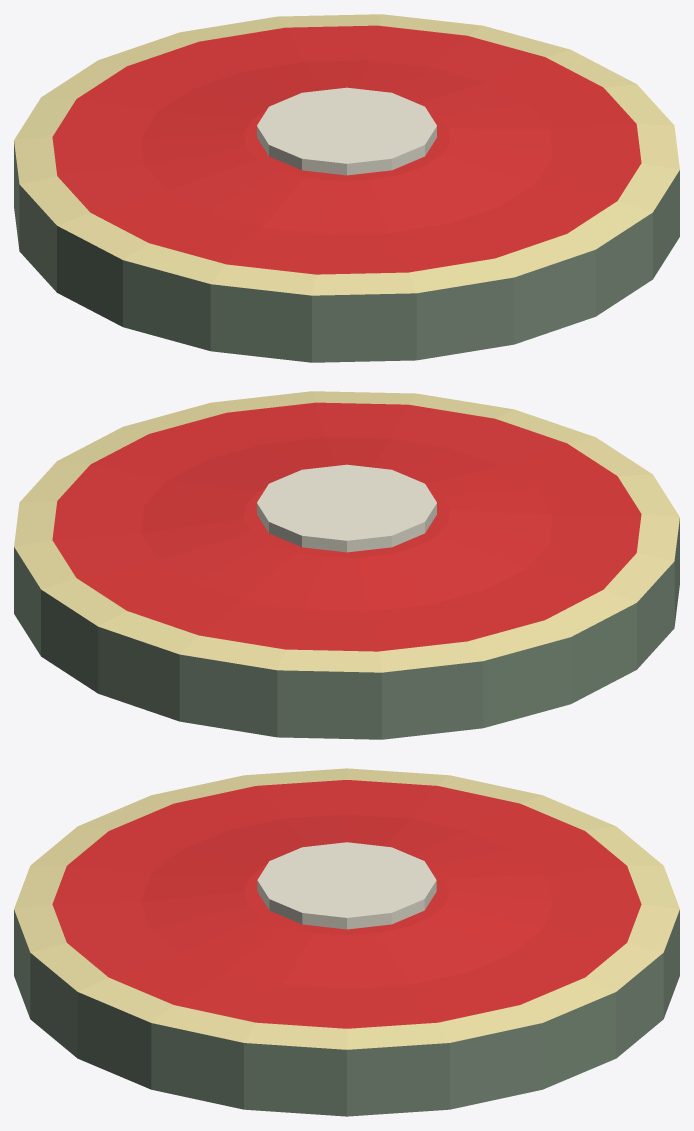
The model's file is cap_shoulder.glb.
3 views of the same model, one above another, from view 1: azimuth 30°, elevation 25°; view 2: azimuth 150°, elevation 25°; view 3: azimuth 270°, elevation 25° (orthographic).
Parts seen in each view (by area): view 1: OUT; view 2: OUT; view 3: OUT.
Boxes of the visible parts, x1=… form: OUT: x1=14, y1=14, x2=679, y2=362; OUT: x1=14, y1=391, x2=679, y2=739; OUT: x1=14, y1=768, x2=679, y2=1116.
Size of the model in its own units: 0.104 by 0.0165 by 0.104.
